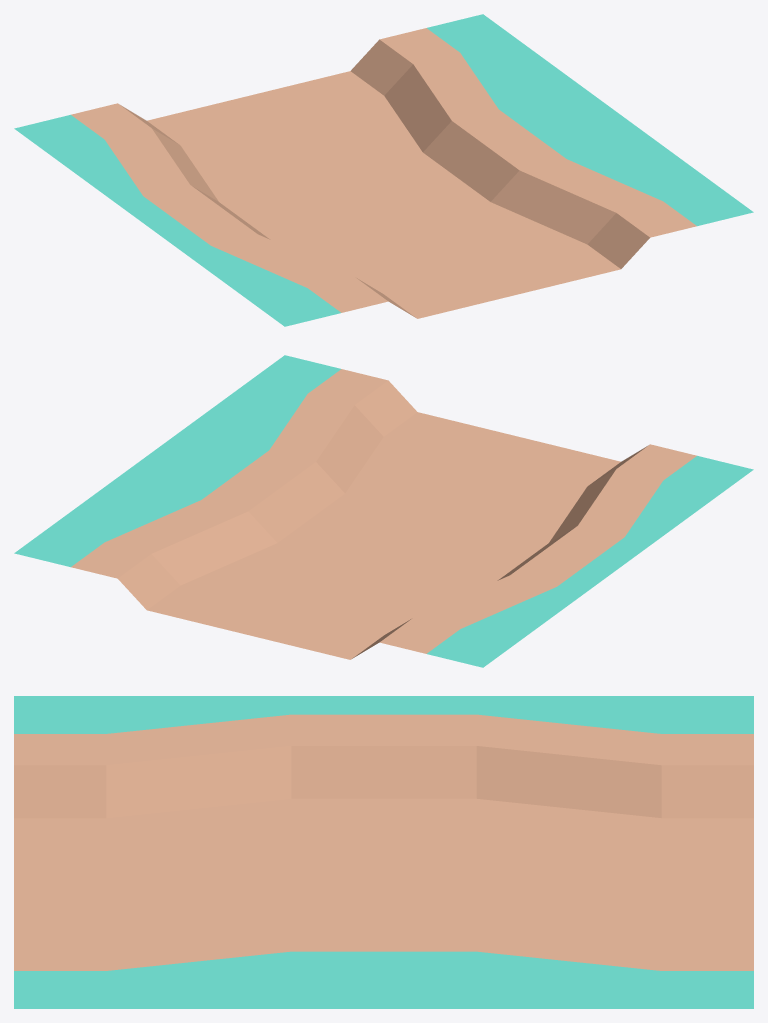
The model's file is ground_pathStraight.glb.
The picture shows the model from 3 angles, top to bottom: view 1: azimuth 30°, elevation 25°; view 2: azimuth 150°, elevation 25°; view 3: azimuth 270°, elevation 25°; orthographic projection. The views are drawn at different scales.
Parts seen in each view (by area): view 1: ground_pathStraight; view 2: ground_pathStraight; view 3: ground_pathStraight.
Part boxes in pixels (<box>): ground_pathStraight: <box>14,14,753,326</box>; ground_pathStraight: <box>14,355,753,667</box>; ground_pathStraight: <box>14,696,753,1008</box>.
Bounding box in the file's own units: 1 × 0.05 × 1.
